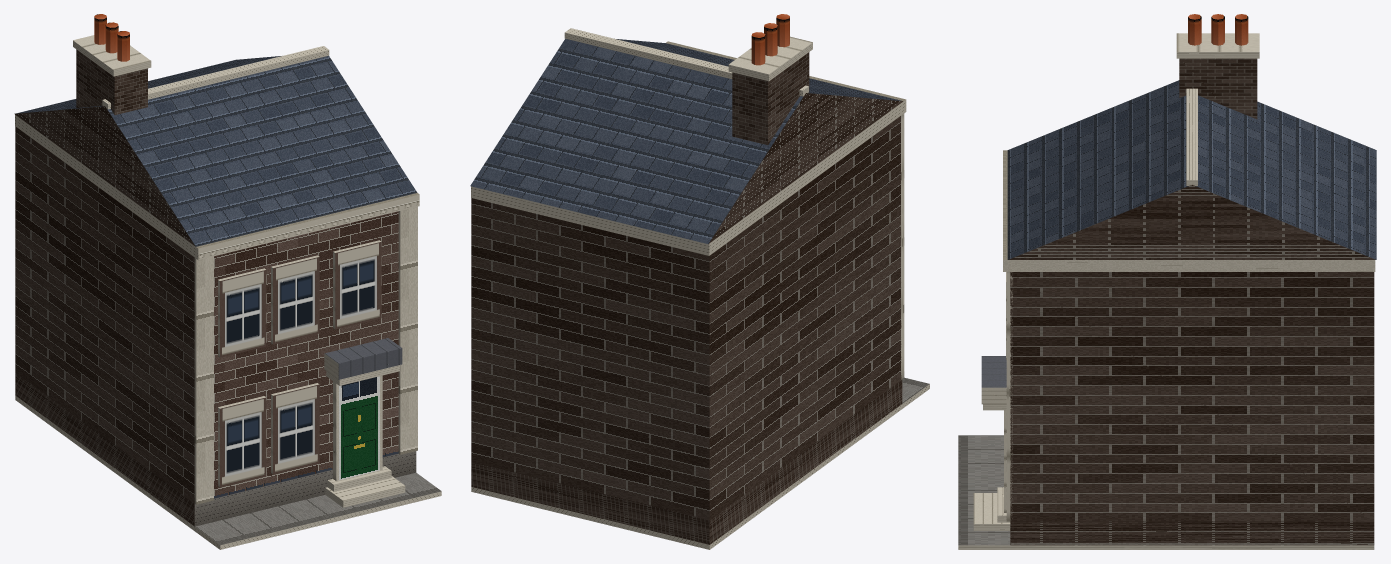
The model's file is building_victorian_house_03.glb.
3 renders of one model, left to right at view 1: azimuth 30°, elevation 25°; view 2: azimuth 150°, elevation 25°; view 3: azimuth 270°, elevation 25°, orthographic. The views are drawn at different scales.
Parts seen in each view (by area): view 1: Building_Victorian_House_03; view 2: Building_Victorian_House_03; view 3: Building_Victorian_House_03.
Part boxes in pixels (x1=…): Building_Victorian_House_03: x1=14, y1=14, x2=441, y2=549; Building_Victorian_House_03: x1=470, y1=14, x2=929, y2=549; Building_Victorian_House_03: x1=958, y1=14, x2=1376, y2=549.
Size of the model in its own units: 5 by 9.19 by 8.05.
Materials: 1 (1 with a texture image).
